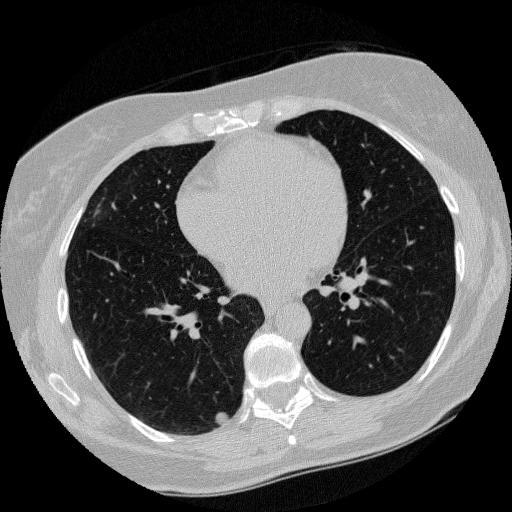nodule: (213, 408, 232, 427)
